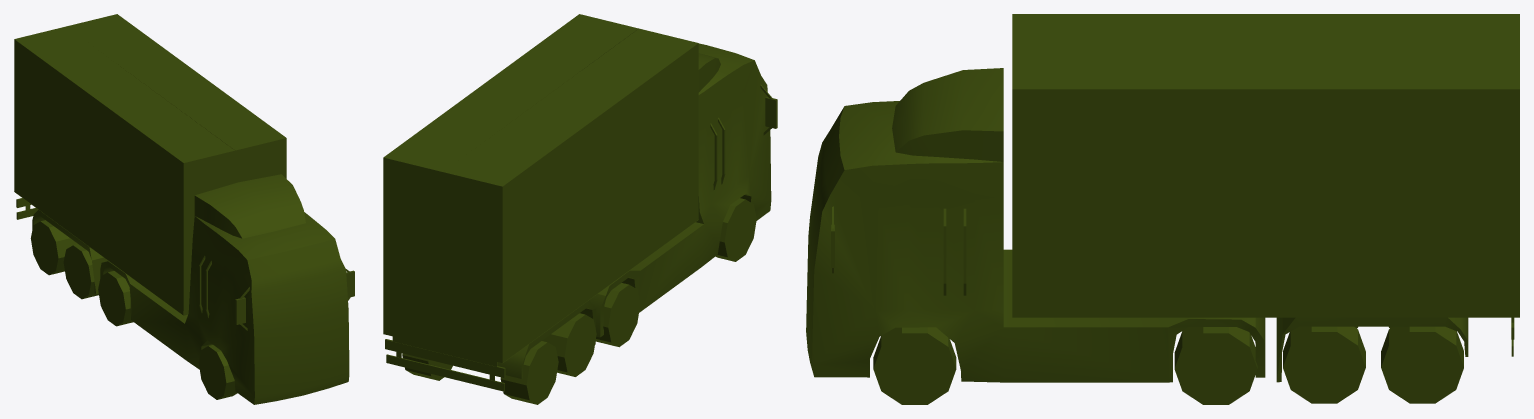
File: Vehicle07C_M.fbx
3 renders of one model, left to right at view 1: azimuth 30°, elevation 25°; view 2: azimuth 150°, elevation 25°; view 3: azimuth 270°, elevation 25°, orthographic. The views are drawn at different scales.
Parts seen in each view (by area): view 1: Vehicle07C; view 2: Vehicle07C; view 3: Vehicle07C.
Boxes of the visible parts, x1=… form: Vehicle07C: x1=14, y1=14, x2=354, y2=404; Vehicle07C: x1=383, y1=14, x2=777, y2=404; Vehicle07C: x1=806, y1=14, x2=1519, y2=404.
Size of the model in its own units: 1.81 by 3.05 by 6.31.
